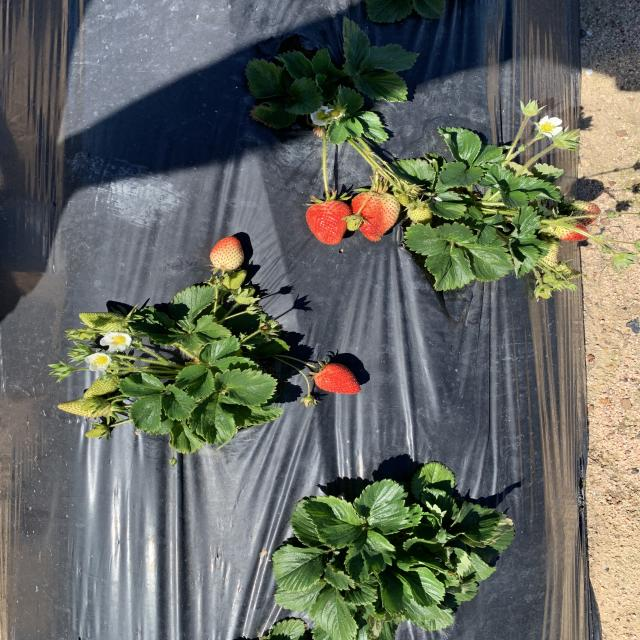unripe: (352, 189, 398, 243), (306, 201, 352, 244), (310, 363, 362, 395)
